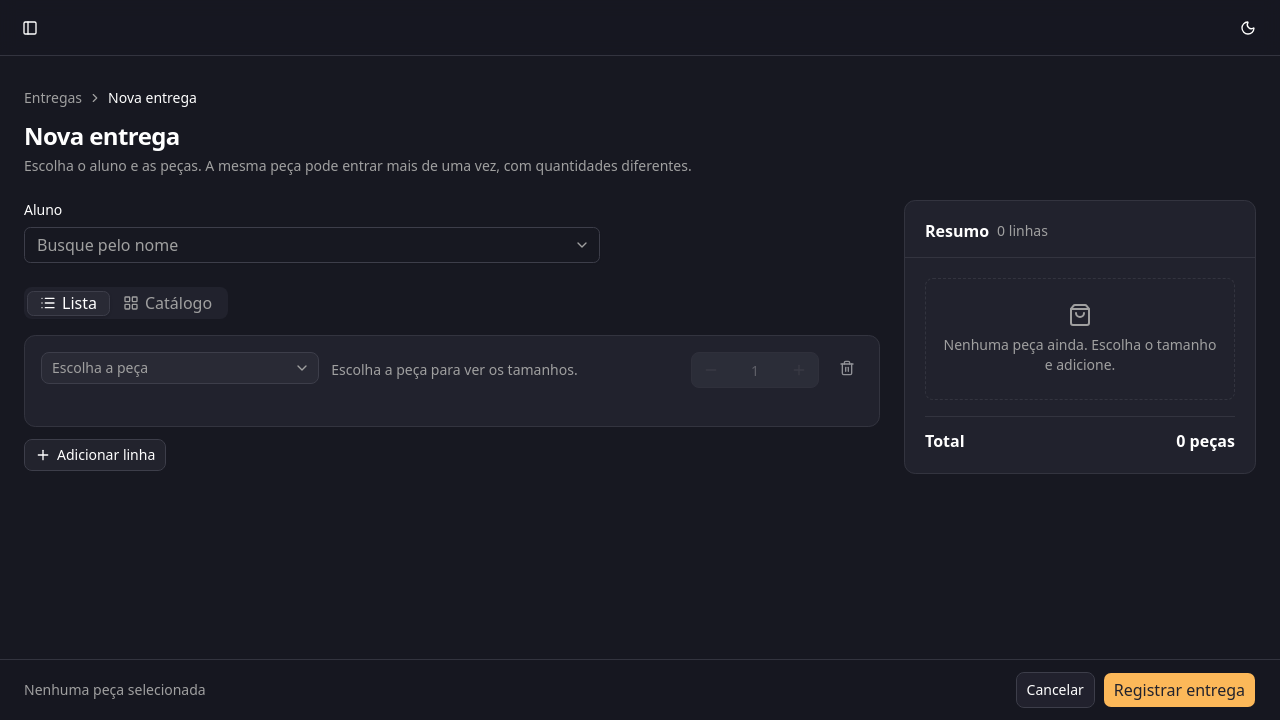
Test: NovaEntregaPage › não deixa escolher um tamanho esgotado
The width and height of the screenshot is (1280, 720).
Click the dropdown named "Peça da linha 1" at [100, 368], box [41, 352, 319, 384]
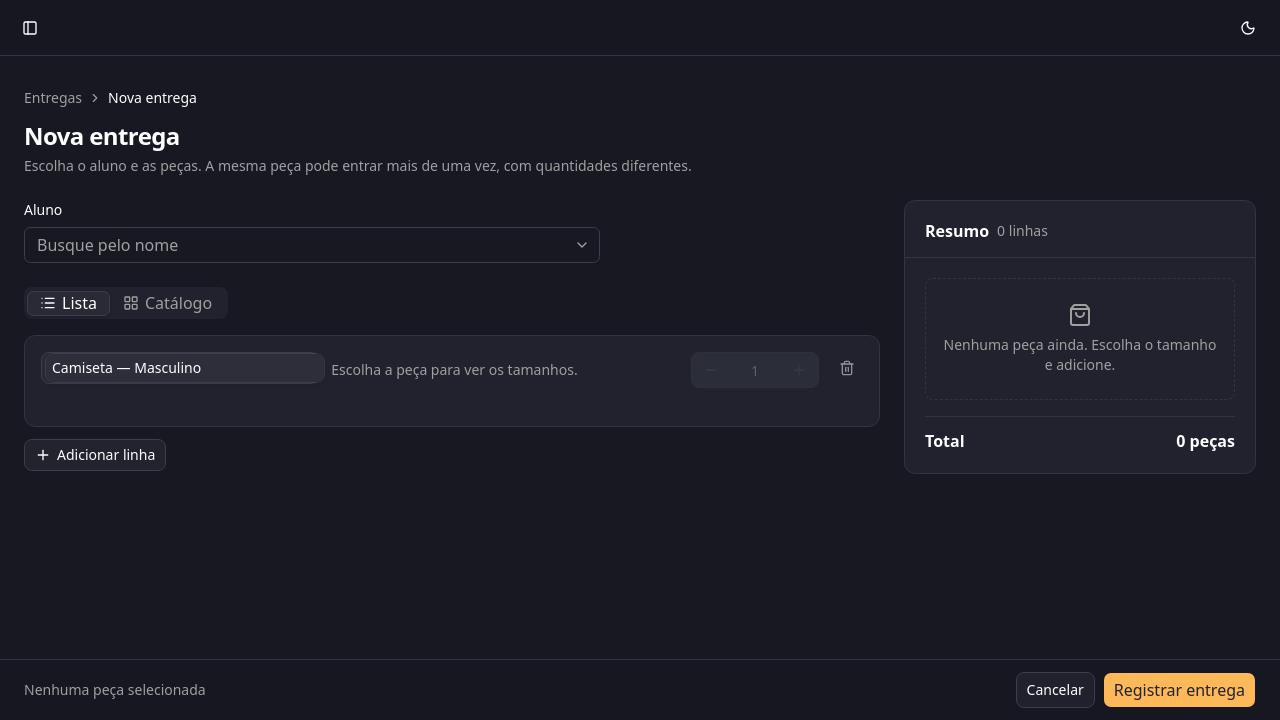
Click the option "Camiseta — Masculino" at [185, 368], box [46, 354, 324, 382]
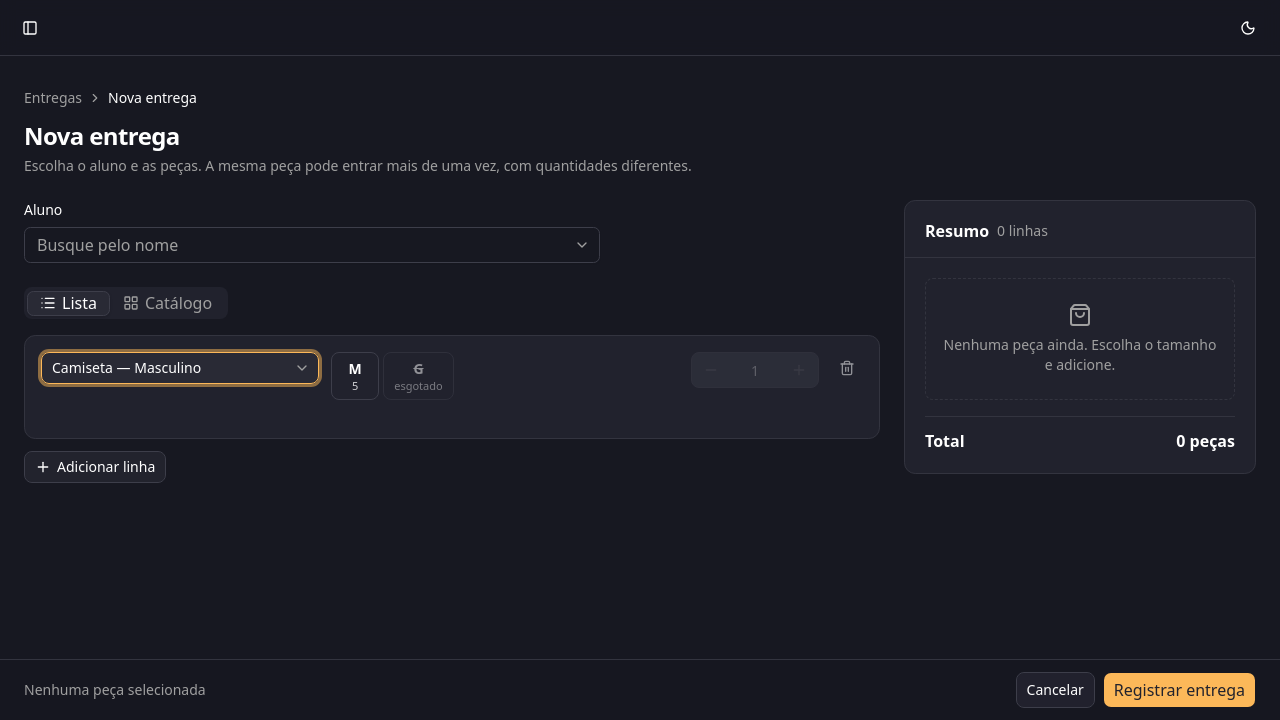
Expected: the button with aria-label "tamanho G, esgotado" is disabled, [383, 352, 454, 400]
